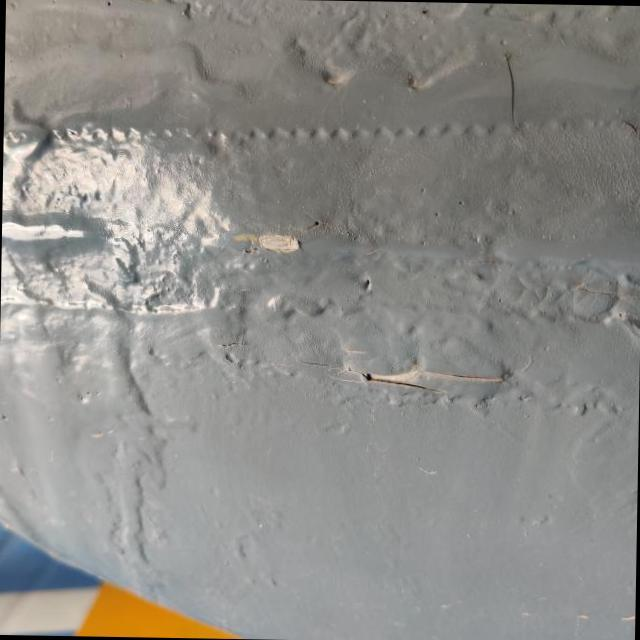Rupture: (294, 338, 515, 408)
